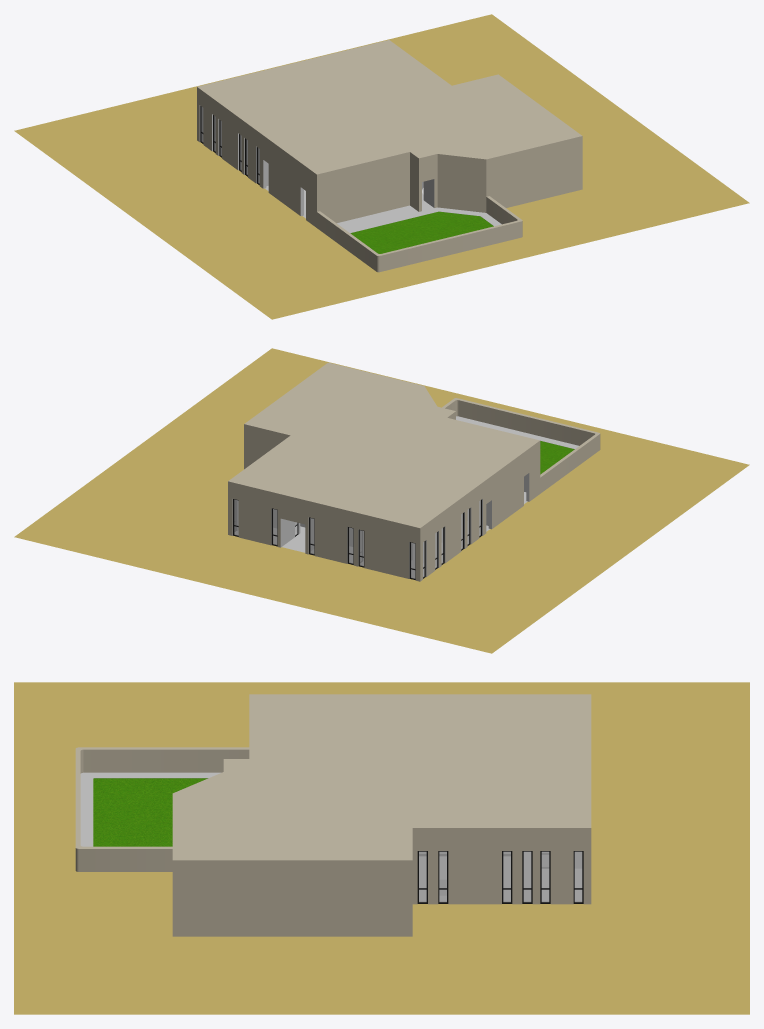
The model's file is FDs Map.fbx.
The picture shows the model from 3 angles, top to bottom: view 1: azimuth 30°, elevation 25°; view 2: azimuth 150°, elevation 25°; view 3: azimuth 270°, elevation 25°; orthographic projection. The views are drawn at different scales.
Visible parts, largest first — view 1: Ground, Outer Store, Walls; view 2: Ground, Outer Store, Walls, Floor; view 3: Ground, Outer Store, Walls, Floor.
Part boxes in pixels (x1,y1,x2,y2): Ground: (14,14,749,319); Outer Store: (197,40,582,272); Walls: (199,105,433,215); Ground: (14,348,749,653); Outer Store: (228,362,600,581); Walls: (232,474,527,578); Floor: (235,492,527,577); Ground: (14,682,749,1014); Outer Store: (75,694,591,936); Walls: (419,851,582,902); Floor: (419,852,581,900).
Size of the model in its own units: 30823 by 3310 by 28823.
